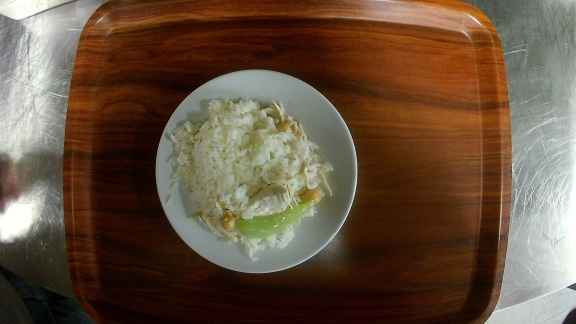nohutlupilav: (150, 68, 359, 276)
